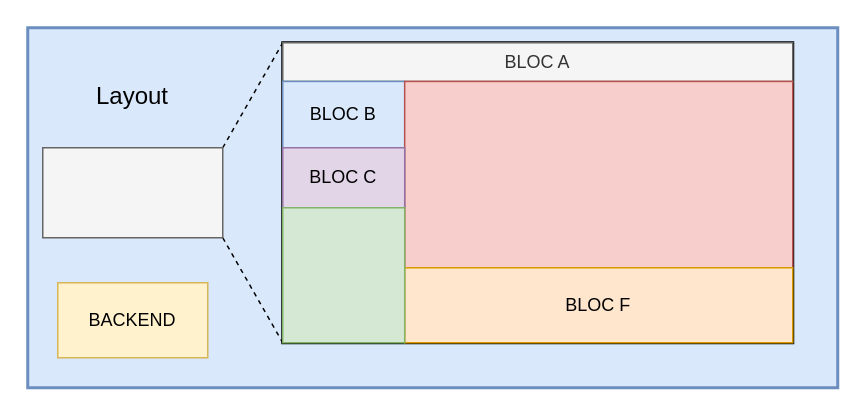
Some shapes in this 864 by 414 pixel diagram are drawn without their labels. The shapes that lost their labels are listed below. From the top down, each one's centre as x and y in pixels, then its label:
At pixel 132 192: "IHM".
At pixel 598 174: "BLOC E".
At pixel 343 274: "BLOC D".
